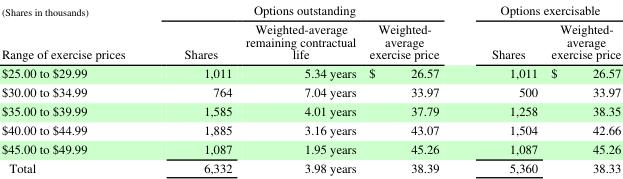table: (0, 0, 620, 175)
table column: (0, 0, 154, 175), (238, 0, 362, 175), (362, 0, 464, 175), (154, 0, 238, 175), (464, 0, 543, 175), (543, 0, 620, 175)
table column header: (0, 0, 620, 63)
table row: (0, 18, 620, 63), (0, 81, 620, 100), (0, 100, 620, 119), (0, 119, 620, 138), (0, 138, 620, 157), (0, 0, 620, 18), (0, 63, 620, 81), (0, 157, 620, 175)
table spanning cell: (0, 0, 154, 63), (154, 0, 464, 18), (464, 0, 620, 18)
